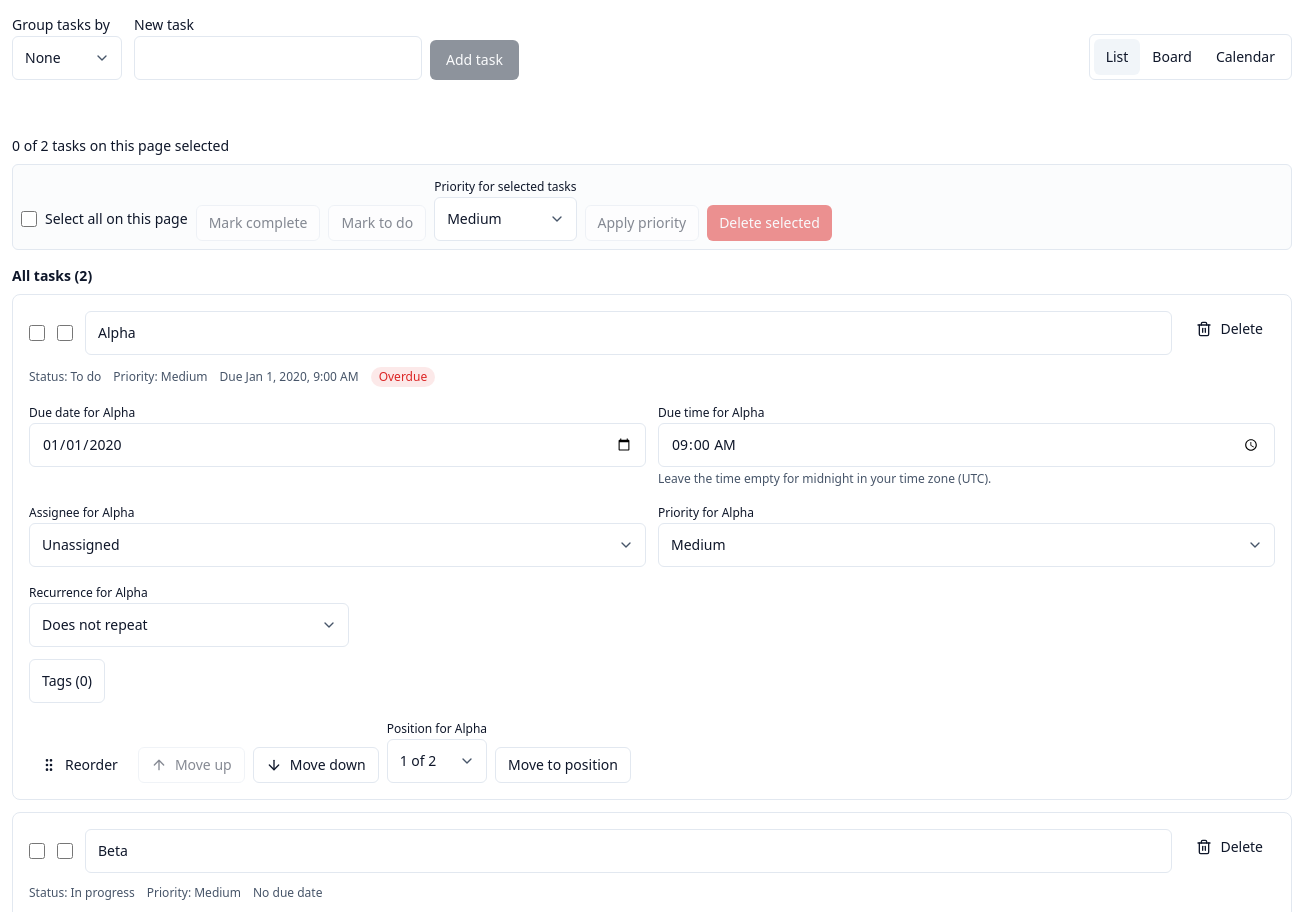
TaskListView › says a replayed bulk change was already applied instead of claiming it changed rows
What coordinates should you click on to do the following:
click the checkbox named "Select all tasks on this page"
I would click on:
 (29, 219)
Its box is [21,211,37,227].
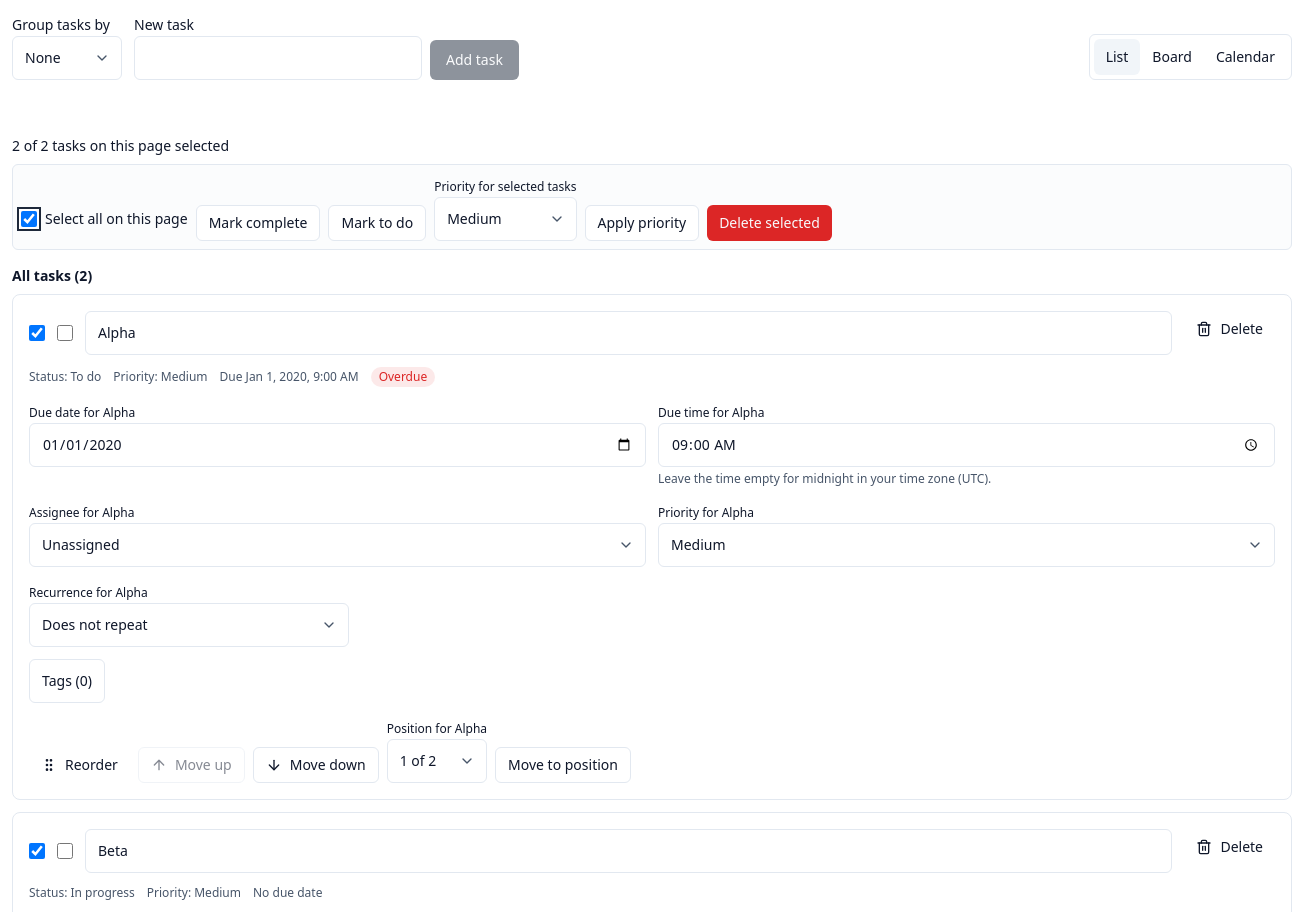
What coordinates should you click on to do the following:
click the button "Mark complete"
I would click on:
 (258, 223)
Its box is [196,205,320,241].
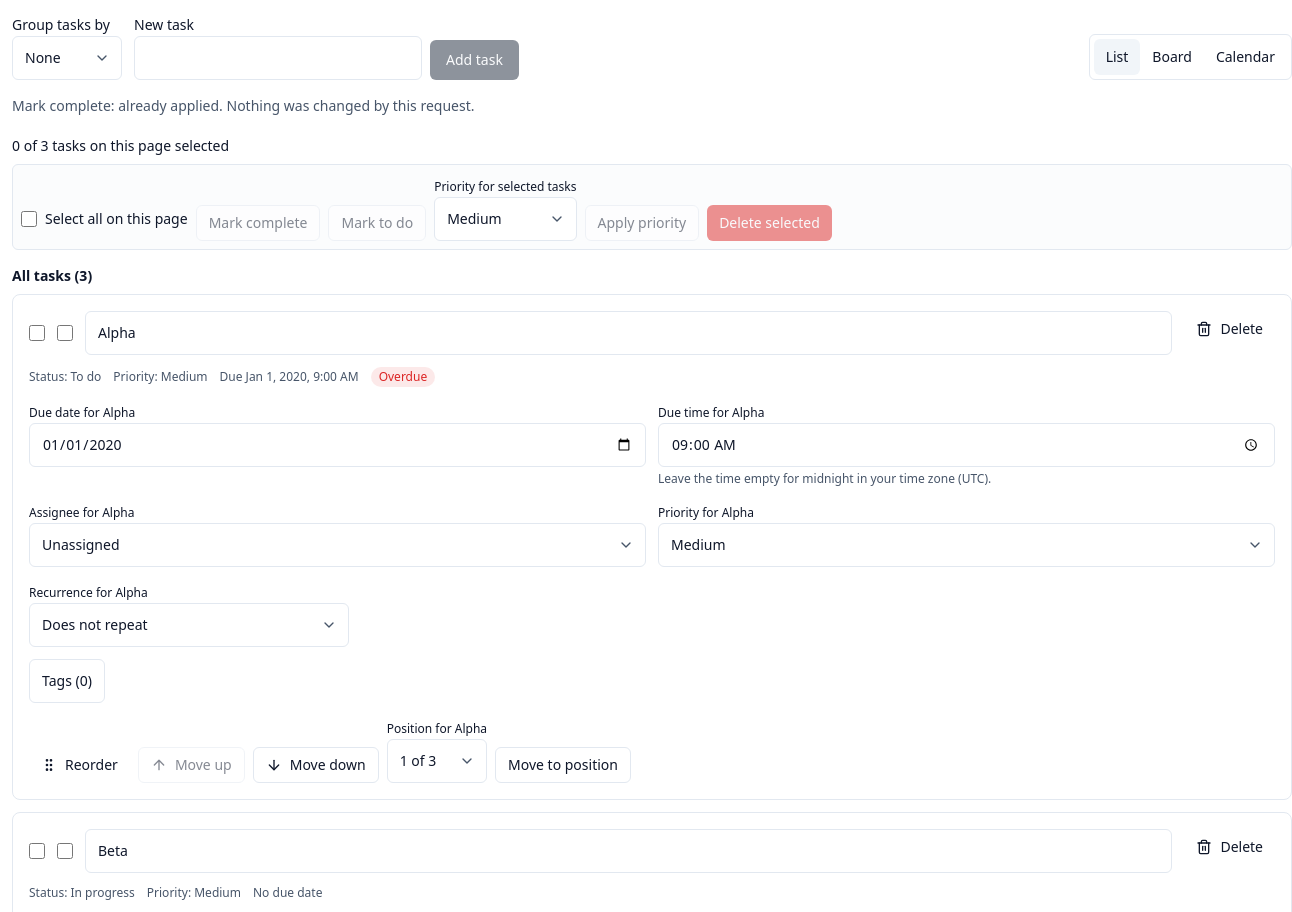
Expected: the text "Mark complete: already applied. Nothing was changed by this request." is shown, [12,96,474,115]
